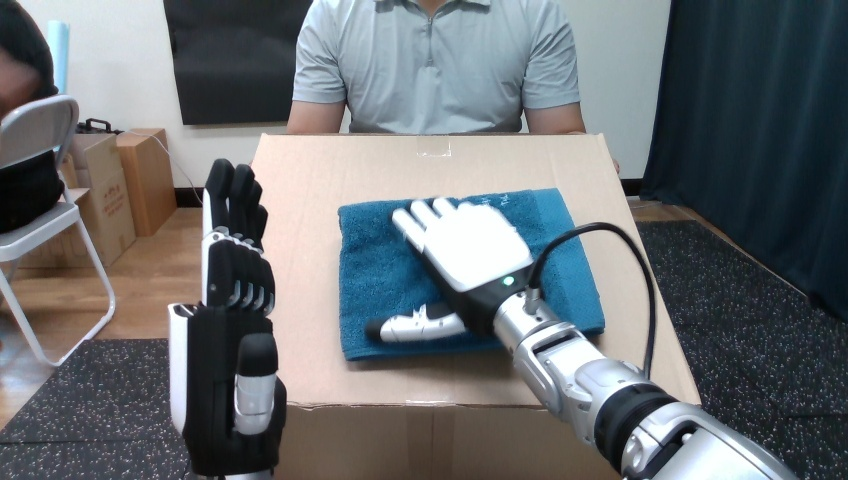left robot hand: (366, 197, 795, 479), (168, 159, 285, 478), (540, 229, 650, 370)
